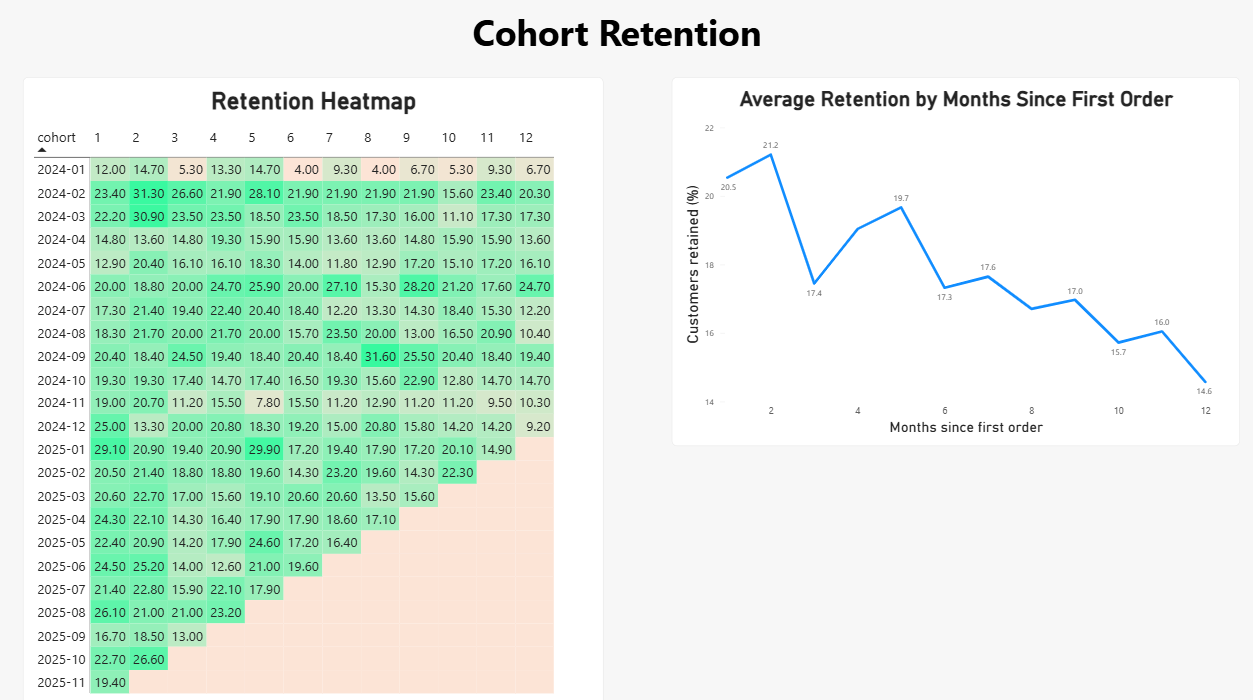

The page's visual inventory and layout, read from the dashboard file:
{"tool":"powerbi","page":{"name":"Retention","canvas":[1920,1080],"ordinal":1},"visuals":[{"type":"pivotTable","title":"Retention Heatmap","fields":{"Columns":["cohort_retention.month_index"],"Rows":["cohort_retention.cohort"],"Values":["Avg(cohort_retention.retention_pct)"]},"box":[70.5,130.9,871.9,948.4],"z":0},{"type":"lineChart","title":"Average Retention by Months Since First Order","fields":{"Category":["cohort_retention.month_index"],"Y2":["Avg(cohort_retention.retention_pct)"]},"box":[1045.5,131.3,853.4,554.4],"z":1},{"type":"textbox","box":[26.2,26.2,1872.7,104.7],"z":2}]}

Visuals, with their boxes in screenshot pixels (x1, y1, x2, y2), scaled from the page's 1920x1080 canvas onto the 1253x700 screenshot:
"Retention Heatmap" pivotTable: 46,85,615,699
"Average Retention by Months Since First Order" lineChart: 682,85,1239,444
textbox: 17,17,1239,85
